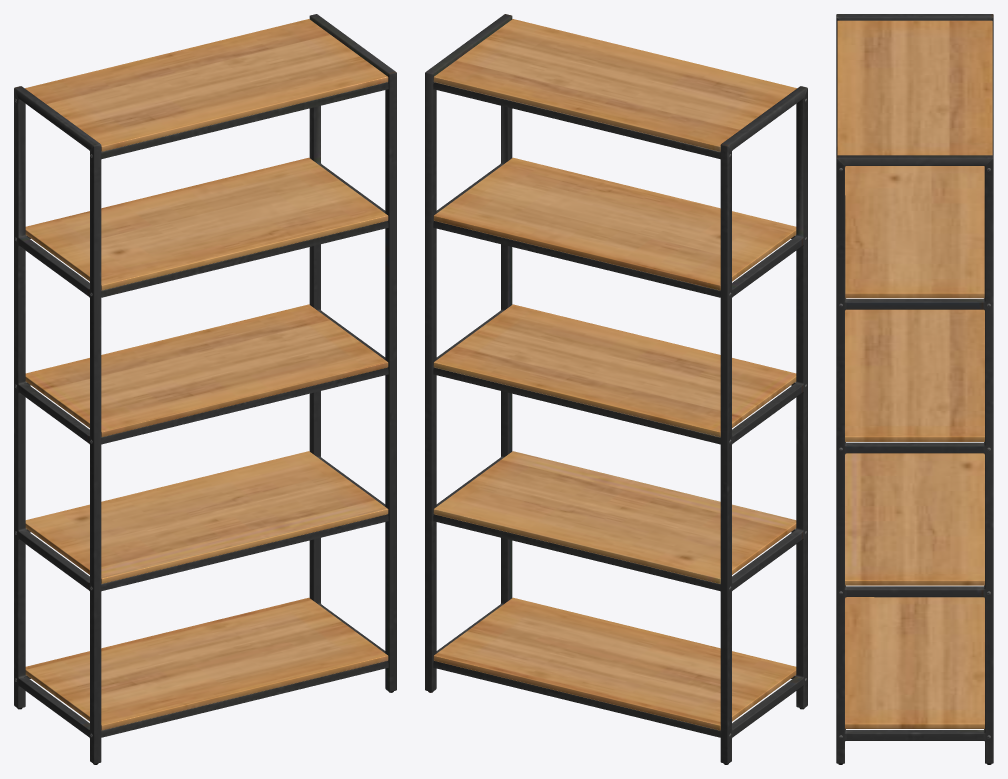
The model's file is shelves.glb.
3 views of the same model, side by side, from view 1: azimuth 30°, elevation 25°; view 2: azimuth 150°, elevation 25°; view 3: azimuth 270°, elevation 25° (orthographic). The views are drawn at different scales.
Parts seen in each view (by area): view 1: shelves; view 2: shelves; view 3: shelves.
Part boxes in pixels (x1,y1,x2,y2): shelves: [14, 14, 396, 764]; shelves: [425, 14, 807, 764]; shelves: [836, 14, 993, 764].
Bounding box in the file's own units: 0.9251 × 1.8 × 0.4233.
Materials: 1 (1 with a texture image).
